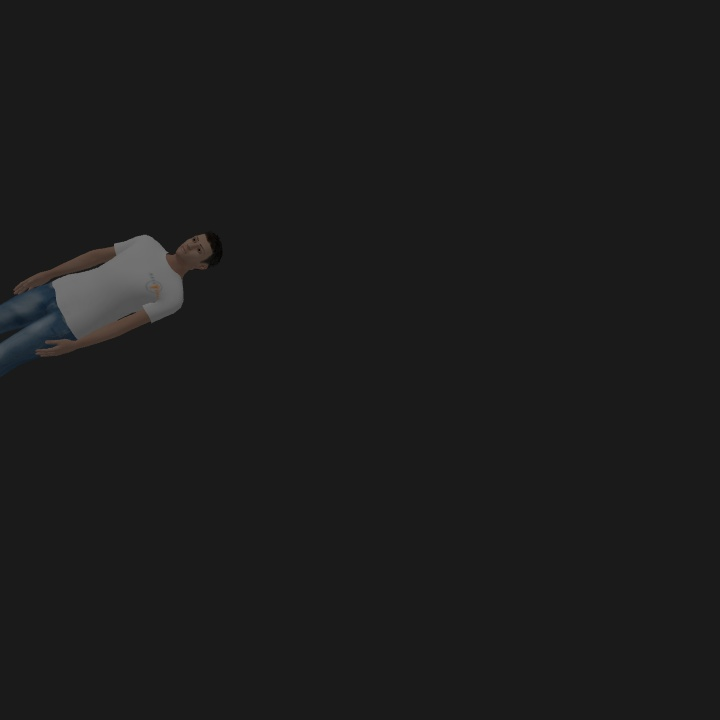victim: (1, 228, 221, 373)
